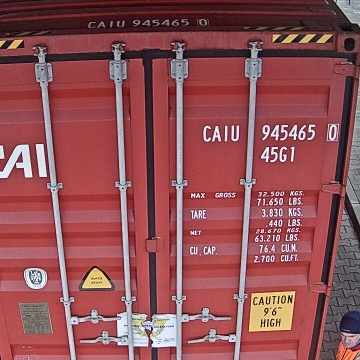serial_id: (202, 124, 337, 141)
